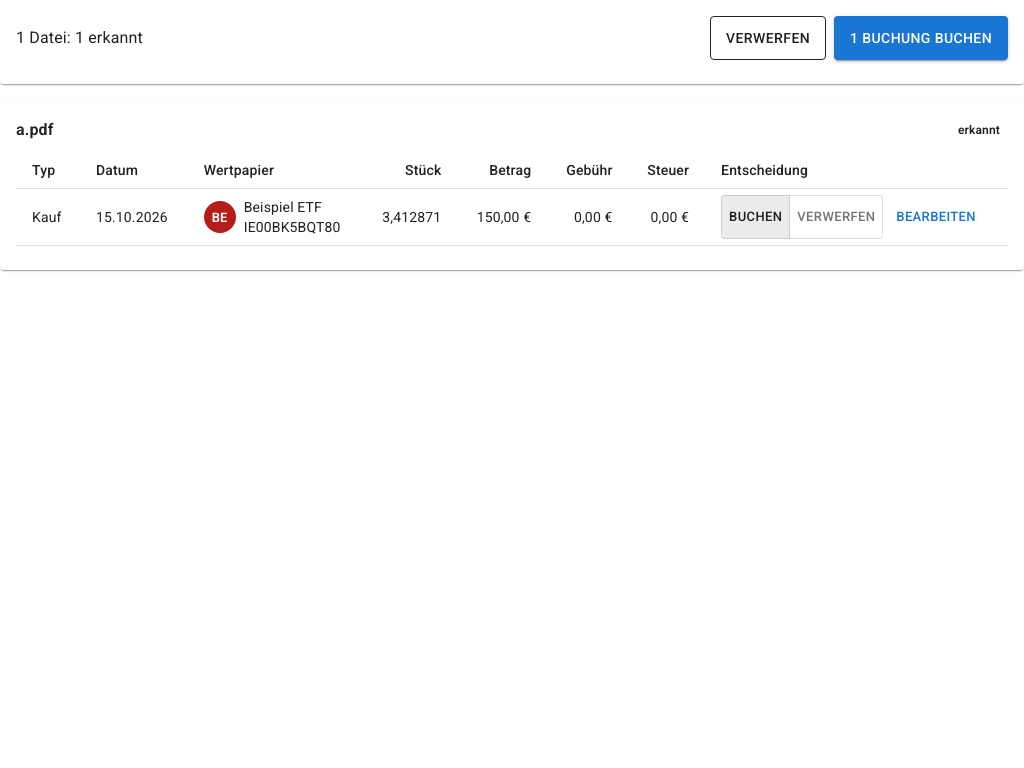
Test case: ImportReview › edits a row inline and shows a German field error
This screenshot has width=1024, height=768.
Click the button "Bearbeiten": (936, 217) [891,195,981,239]
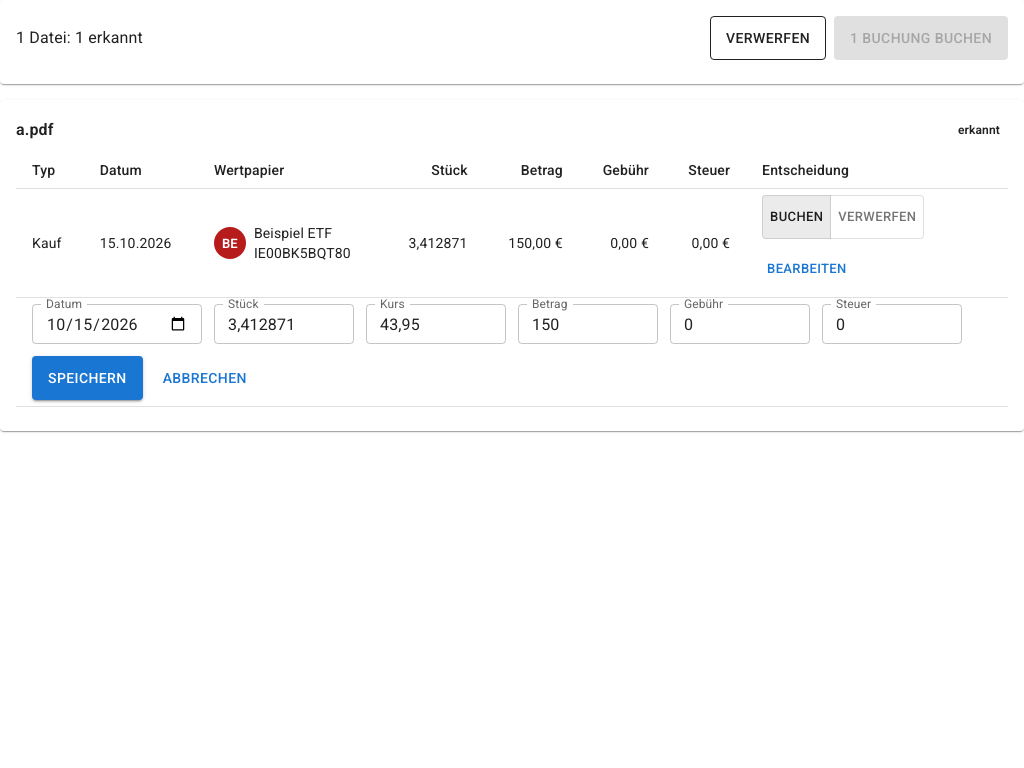
Check: the field labelled "Stück" holds "3,412871"
Replace the text in the field labelled "Stück" with "0": (284, 324) [214,304,354,344]
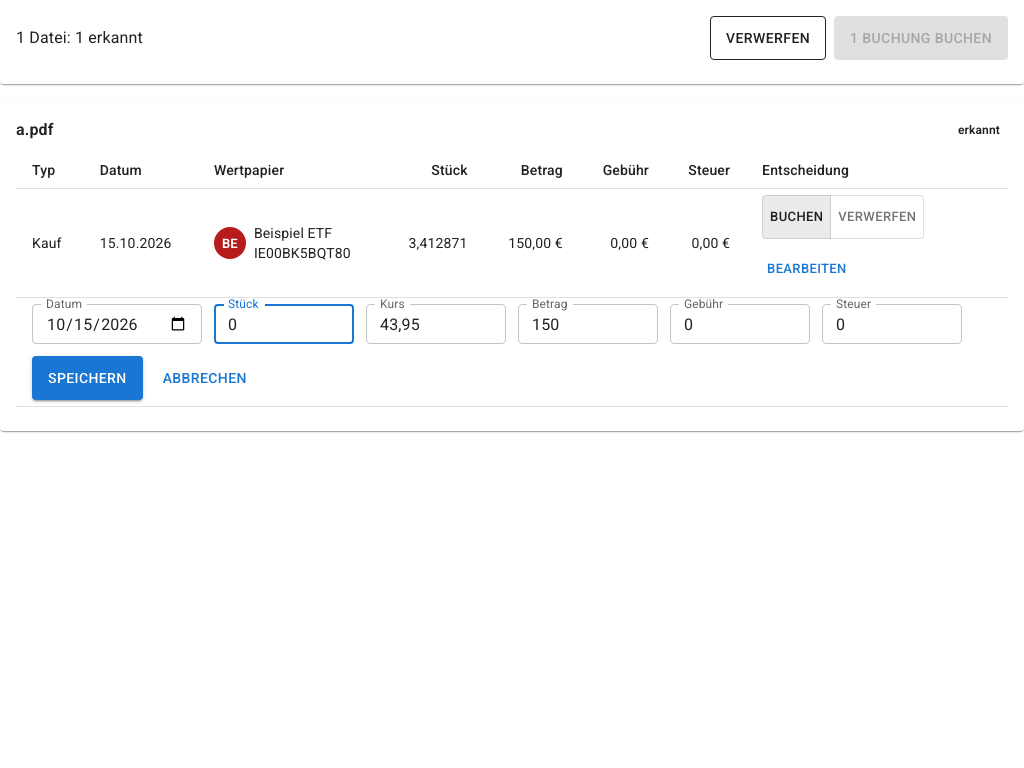
Click the button "Speichern": (87, 378) [32,356,143,400]
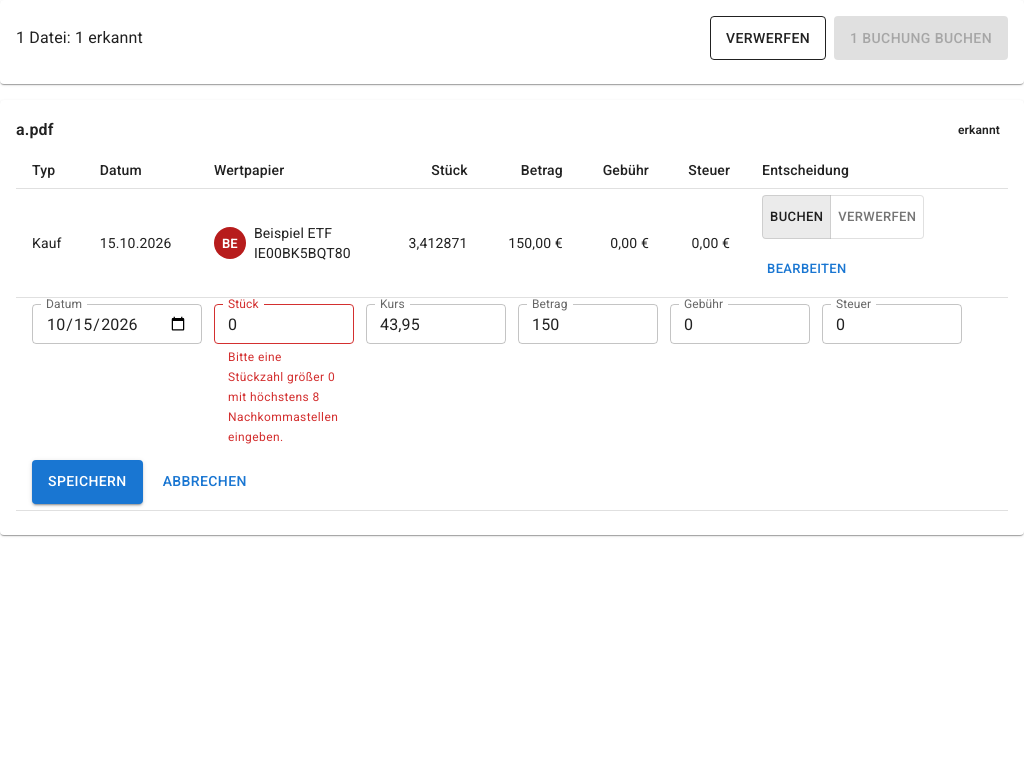
Check: the text "Bitte eine Stückzahl größer 0 mit höchstens 8 Nachkommastellen eingeben." is shown, box [228,348,340,448]
